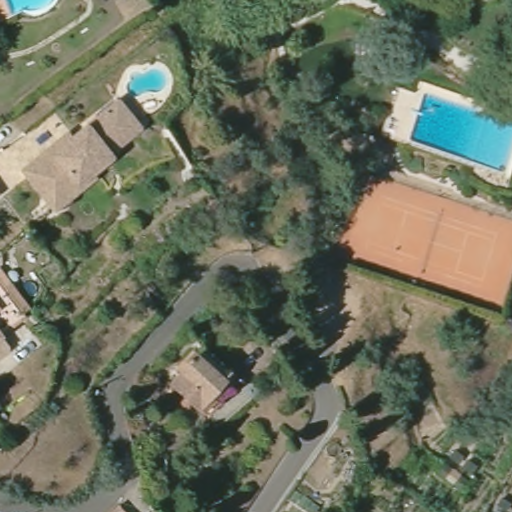pool: (406, 91, 512, 171), (125, 67, 171, 98), (1, 1, 62, 19)
